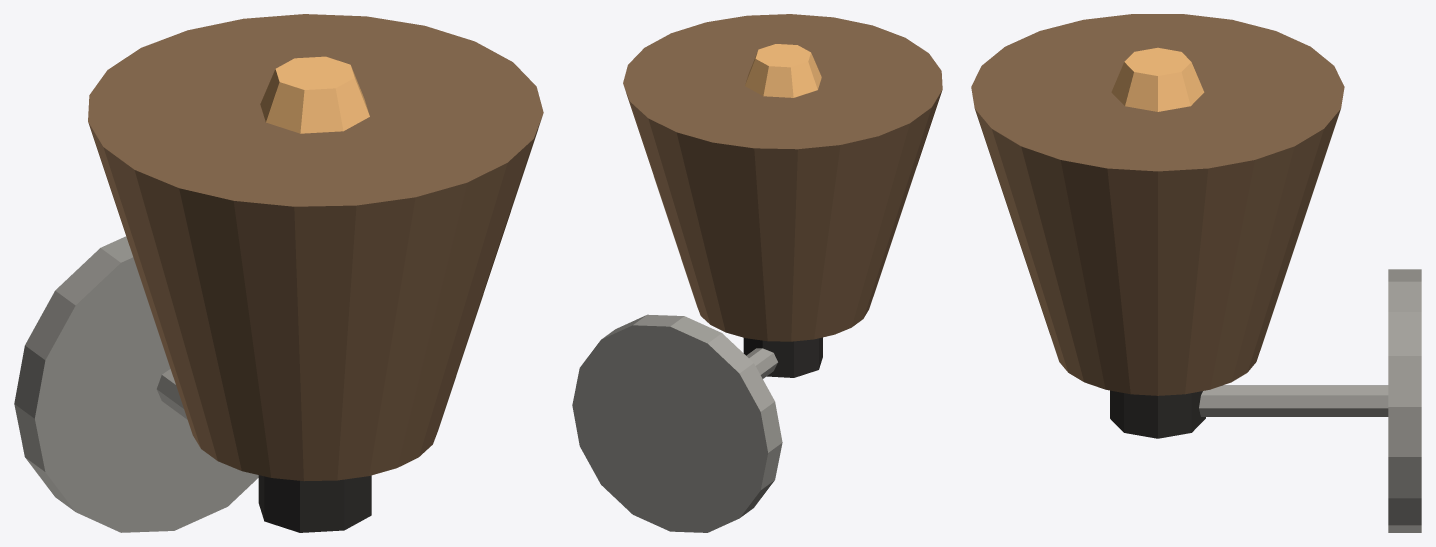
File: wall-sconce.glb
3 renders of one model, left to right at view 1: azimuth 30°, elevation 25°; view 2: azimuth 150°, elevation 25°; view 3: azimuth 270°, elevation 25°, orthographic. The views are drawn at different scales.
Visible parts, largest first — view 1: shade, brushed, emissive-warm, plastic-dark; view 2: shade, brushed, emissive-warm, plastic-dark; view 3: shade, brushed, emissive-warm, plastic-dark.
Boxes of the visible parts, box(x1,y1,x2,y2) form: shade: box(88, 14, 543, 481); brushed: box(14, 236, 258, 532); emissive-warm: box(260, 56, 369, 133); plastic-dark: box(258, 475, 371, 532); shade: box(623, 14, 942, 341); brushed: box(572, 314, 782, 532); emissive-warm: box(745, 44, 821, 97); plastic-dark: box(743, 337, 822, 377); shade: box(971, 14, 1344, 395); brushed: box(1199, 269, 1421, 532); emissive-warm: box(1111, 47, 1204, 111); plastic-dark: box(1110, 390, 1205, 438).
Bounding box in the file's own units: 0.1553 × 0.211 × 0.1878.
